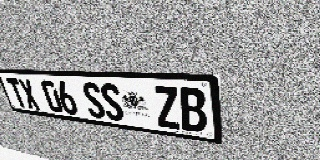0: (40, 80, 64, 113)
6: (54, 81, 79, 116)
B: (178, 87, 207, 133)
S: (98, 83, 125, 122), (80, 82, 107, 119)
T: (6, 78, 29, 109)
X: (17, 79, 41, 110)
Z: (152, 86, 181, 130)
